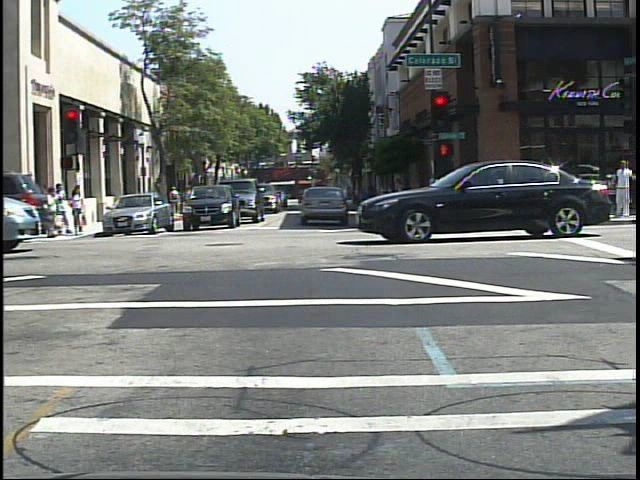person: (617, 156, 635, 218), (167, 181, 185, 222)
